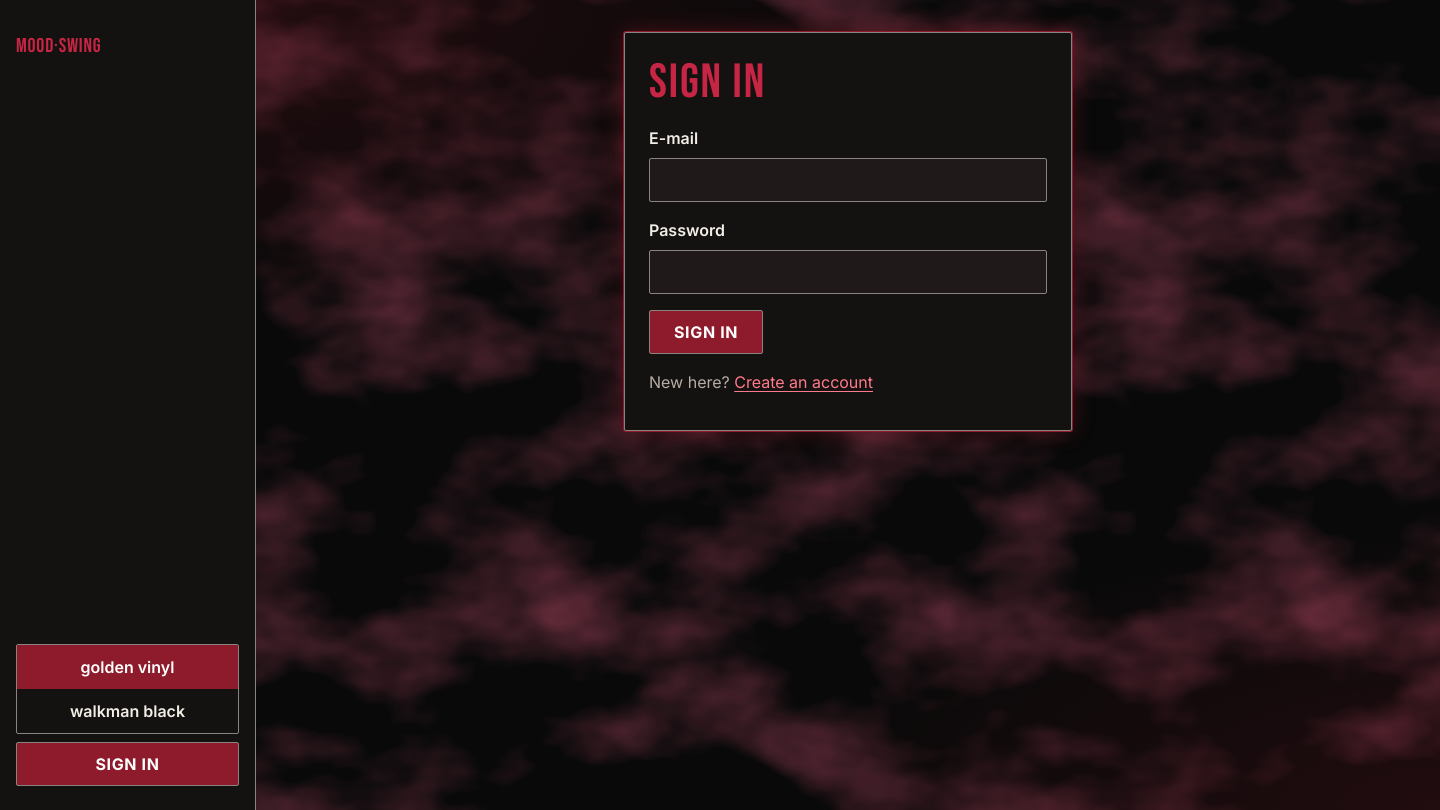
authentication › shows an error for a wrong password and keeps the user signed out
The width and height of the screenshot is (1440, 810).
In the field labelled "E-mail": point(848, 180) [649,158,1047,202], type "alice@example.com"
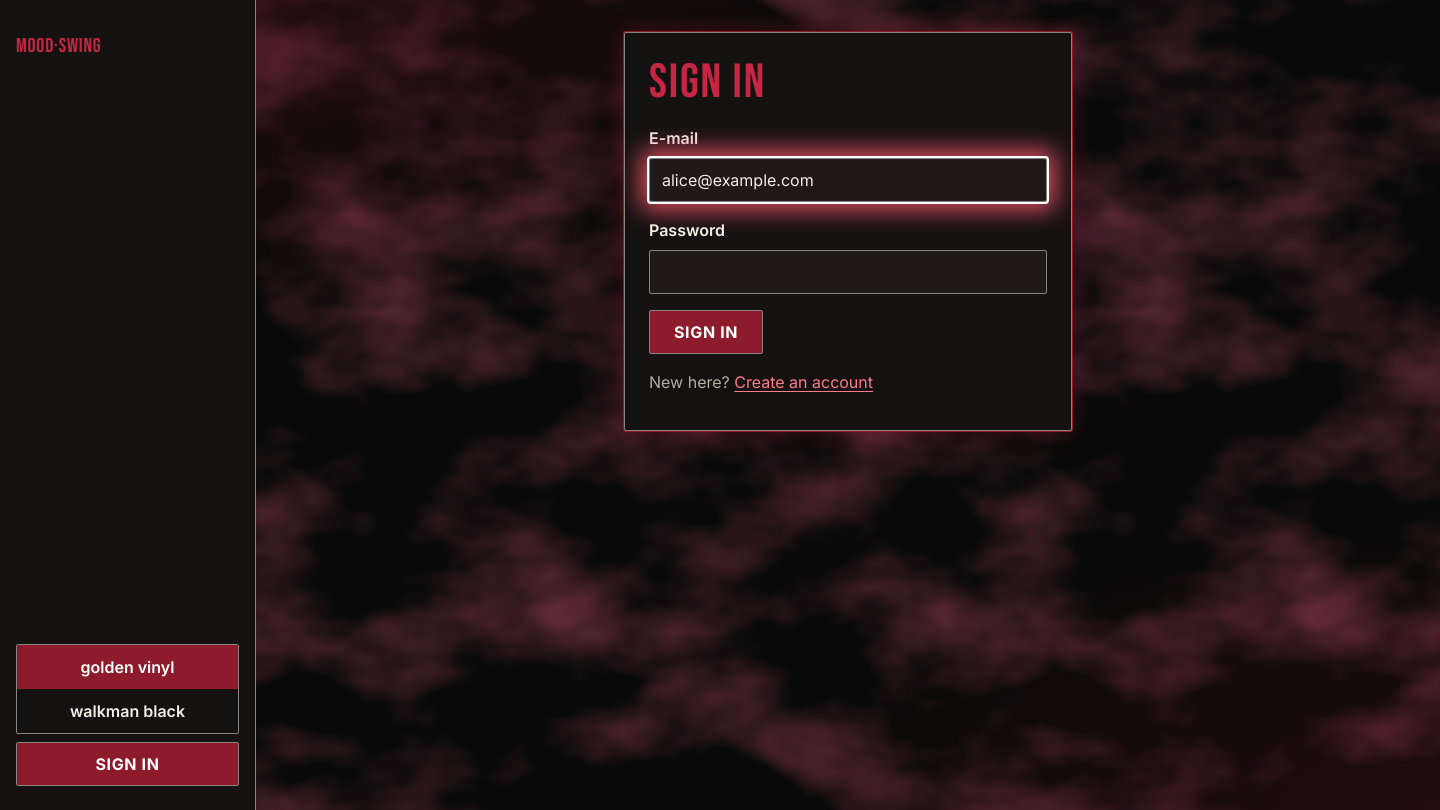
In the password field labelled "Password": point(848, 272) [649,250,1047,294], type "wrong-password"
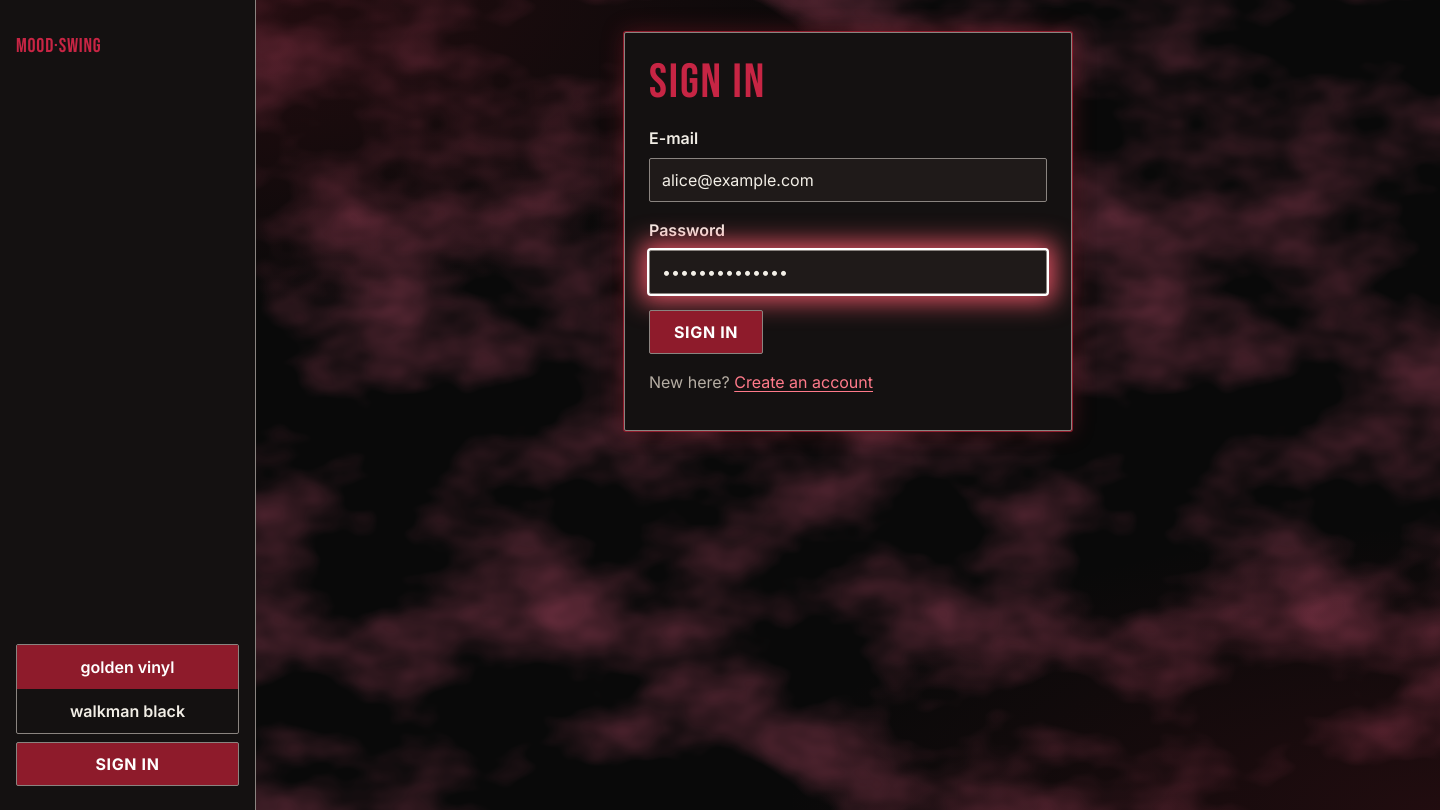
Click the button "Sign in": point(706, 332) [649,310,763,354]
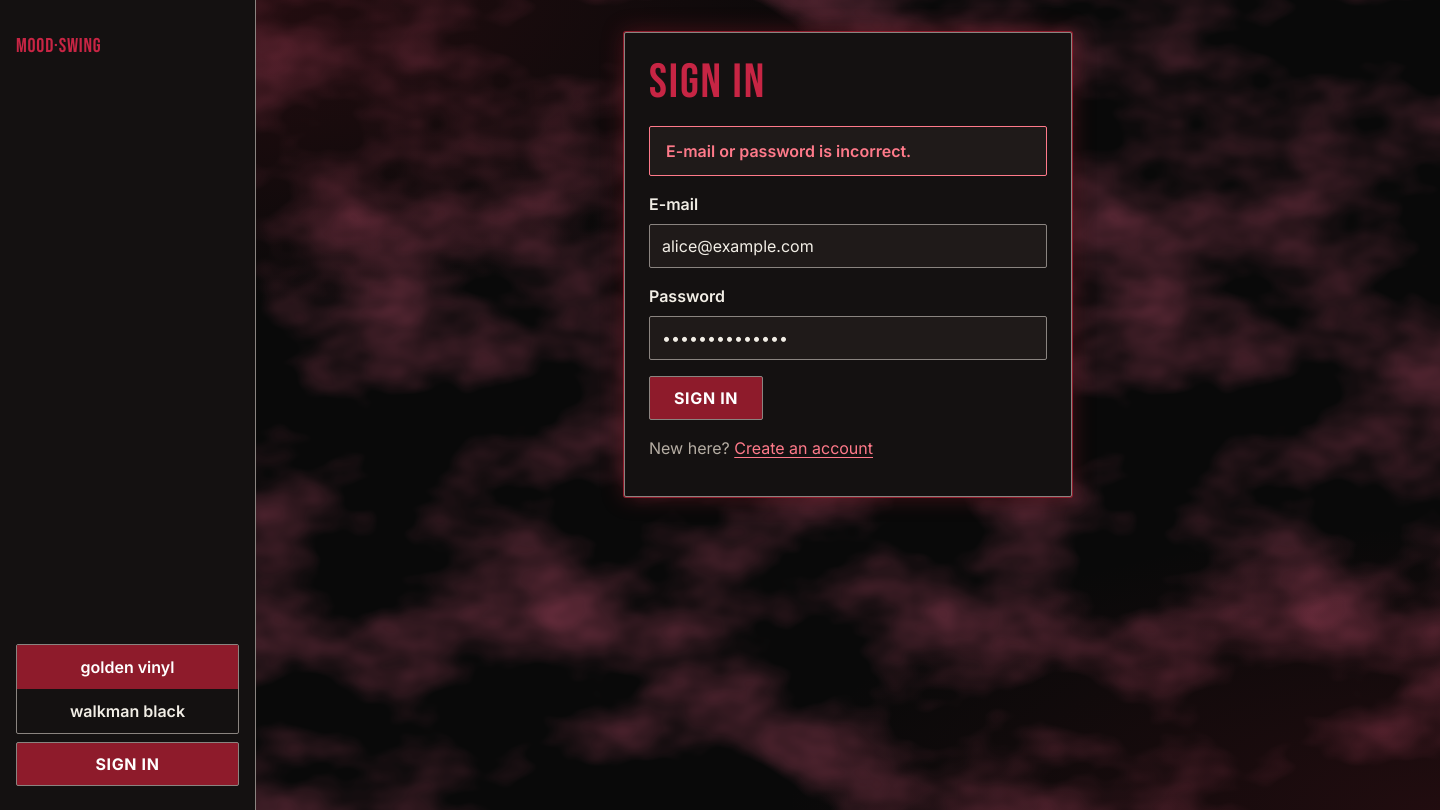
Check: the text "E-mail or password is incorrect." is shown, box [649,126,1047,176]
